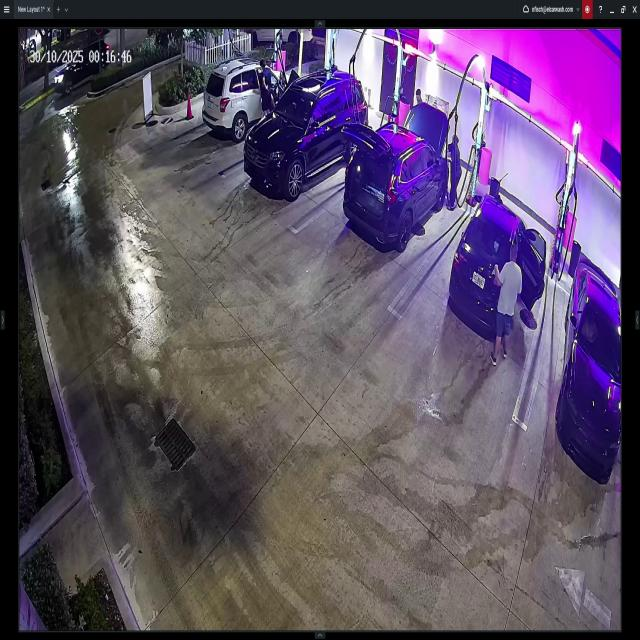Car: (345, 102, 447, 254), (245, 70, 367, 188), (556, 259, 619, 480), (452, 196, 543, 337), (207, 62, 300, 142), (245, 27, 314, 50)
